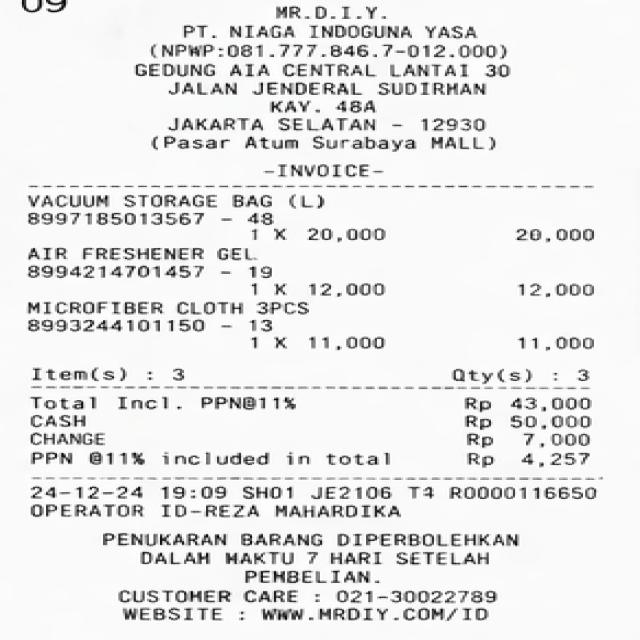date: (24, 481, 235, 504)
store: (257, 1, 394, 24)
total: (26, 392, 601, 415)
